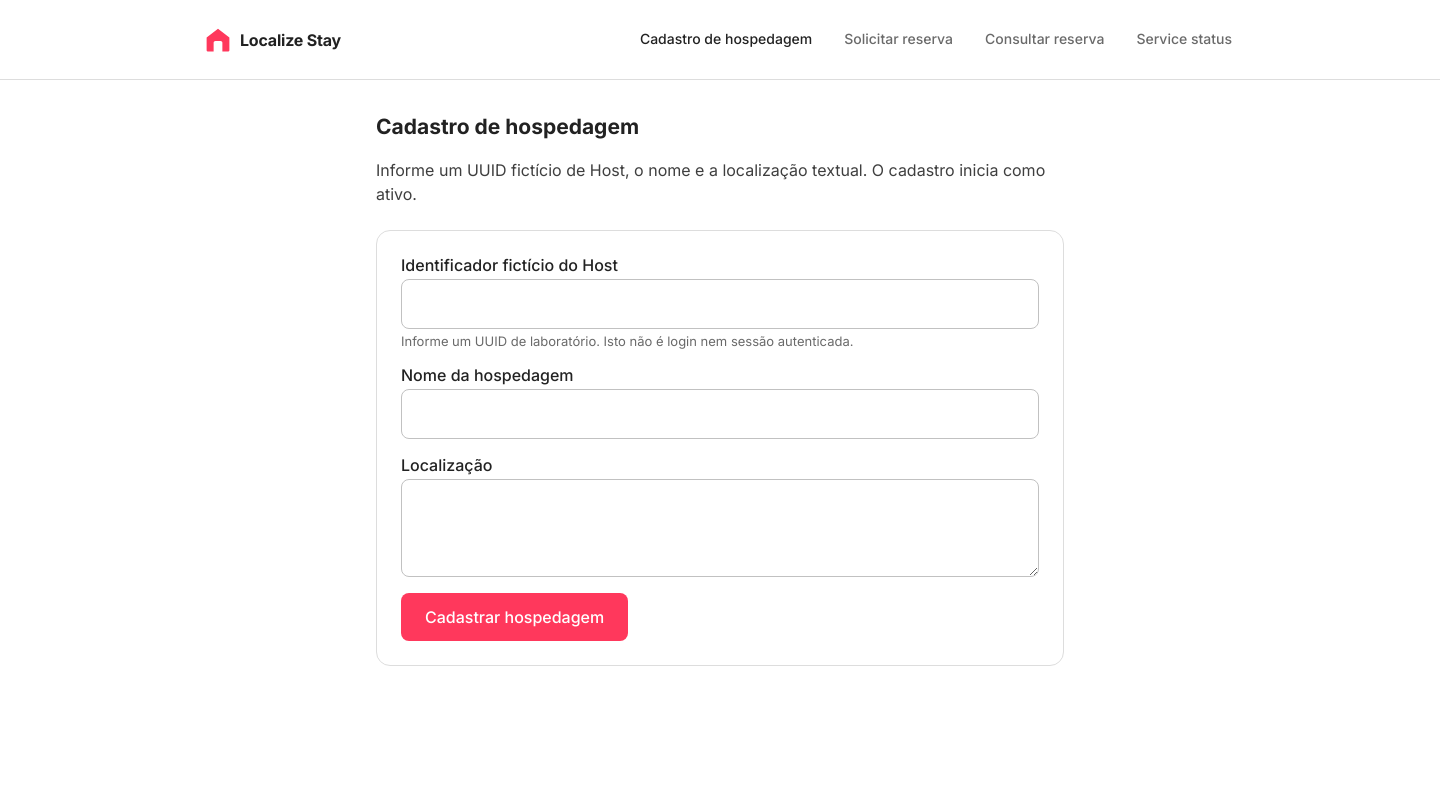
Test case: PropertyUpdate › prefills the edit form from the created response and keeps identity fields read-only
Type "421ec5d4-3ba2-4d8e-8958-a51dd0711650" into the field labelled "Identificador fictício do Host" at (720, 304), box [401,279,1039,329]
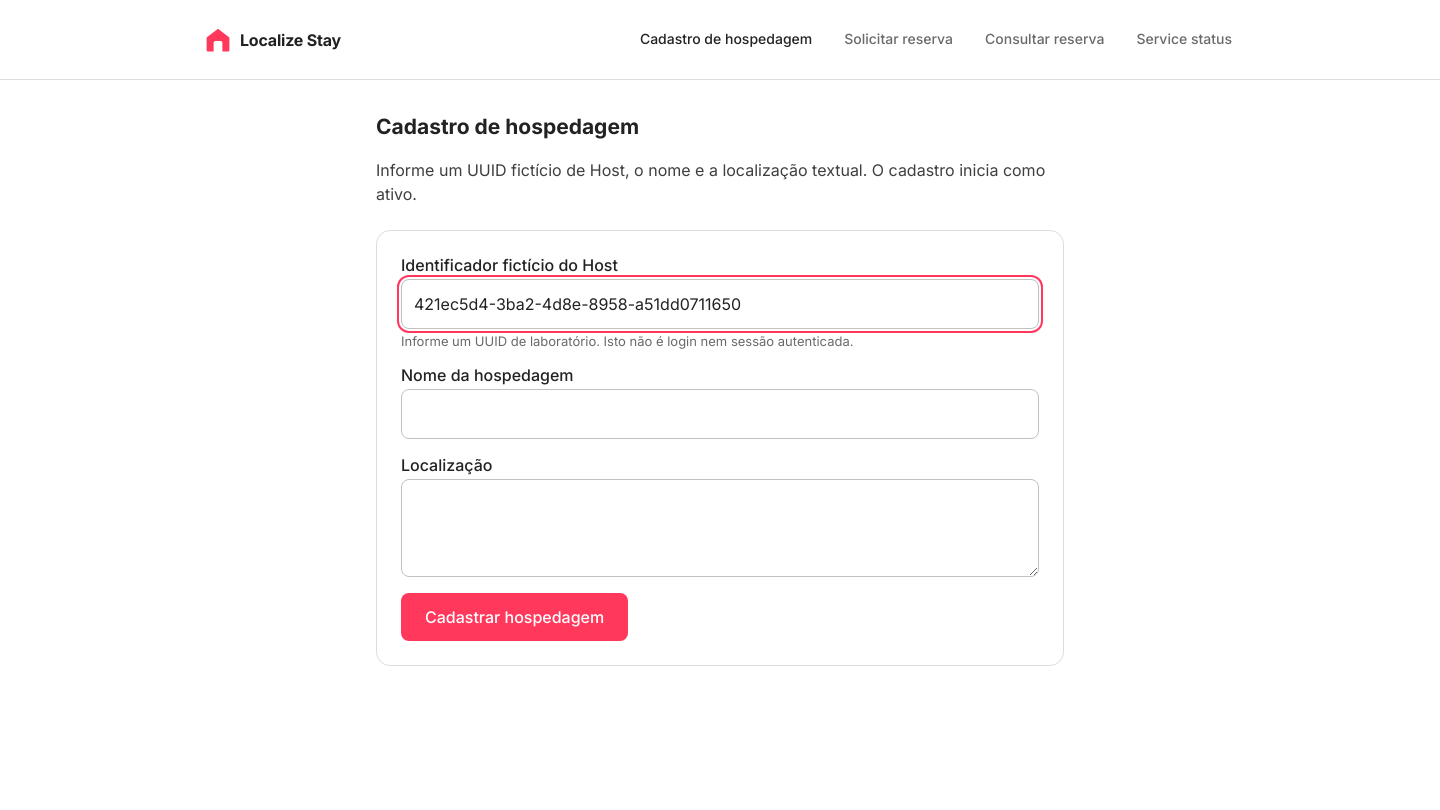
Type "Pousada Dunas do Sol" into the field labelled "Nome da hospedagem" at (720, 414), box [401,389,1039,439]
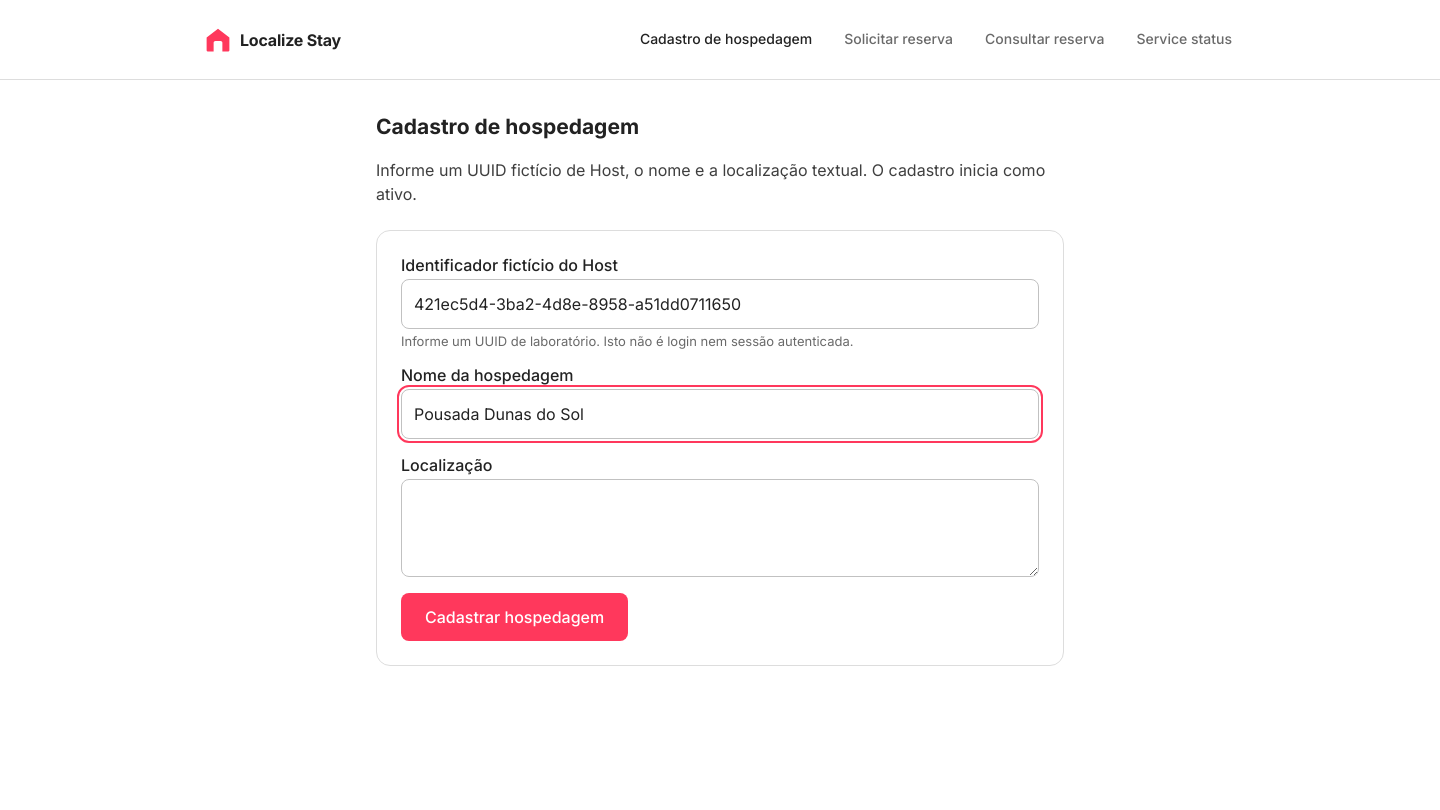
Type "Cumbuco, Caucaia - CE" into the text box labelled "Localização" at (720, 528), box [401,479,1039,577]
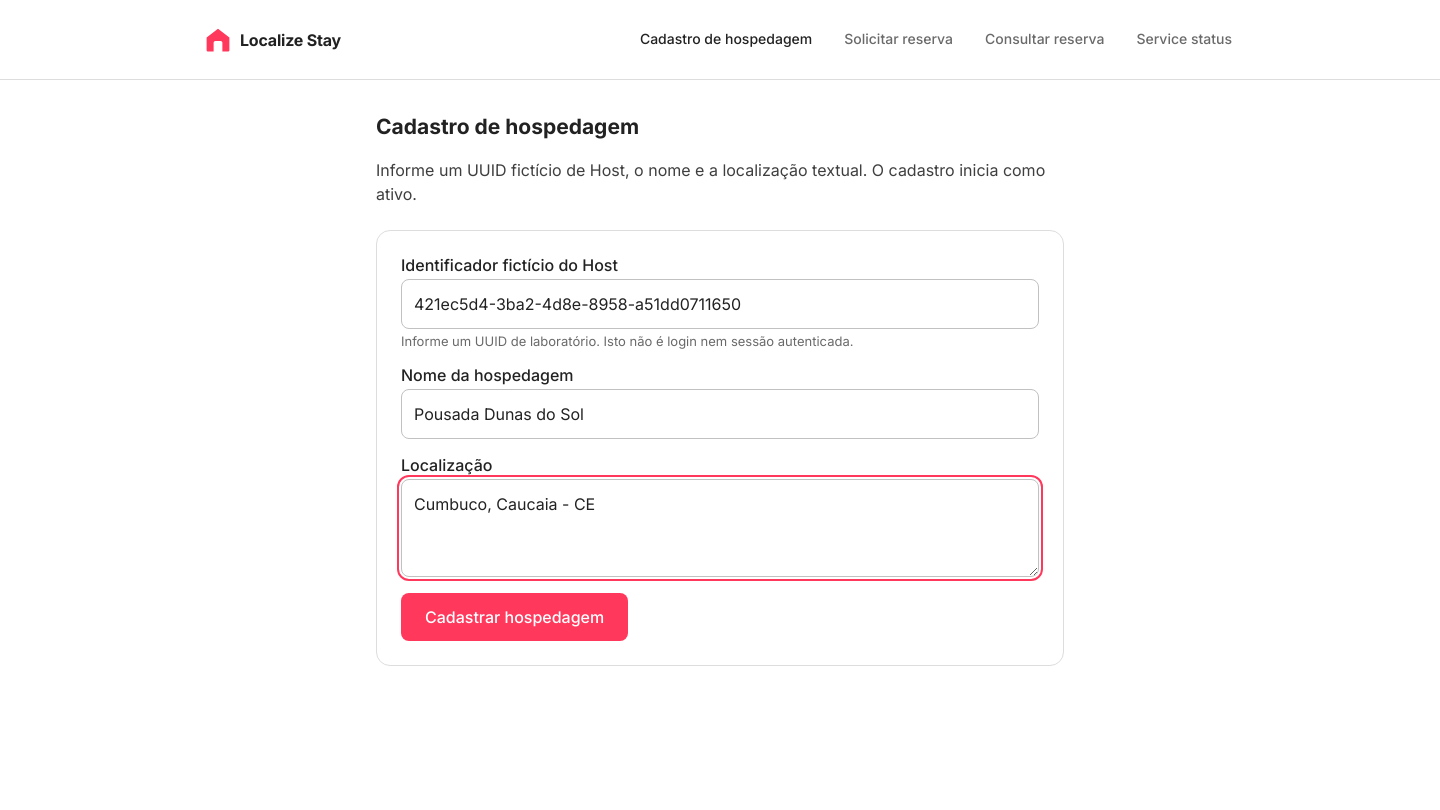
Click the button "Cadastrar hospedagem" at (515, 617), box [401,593,628,641]
(page scrolled)
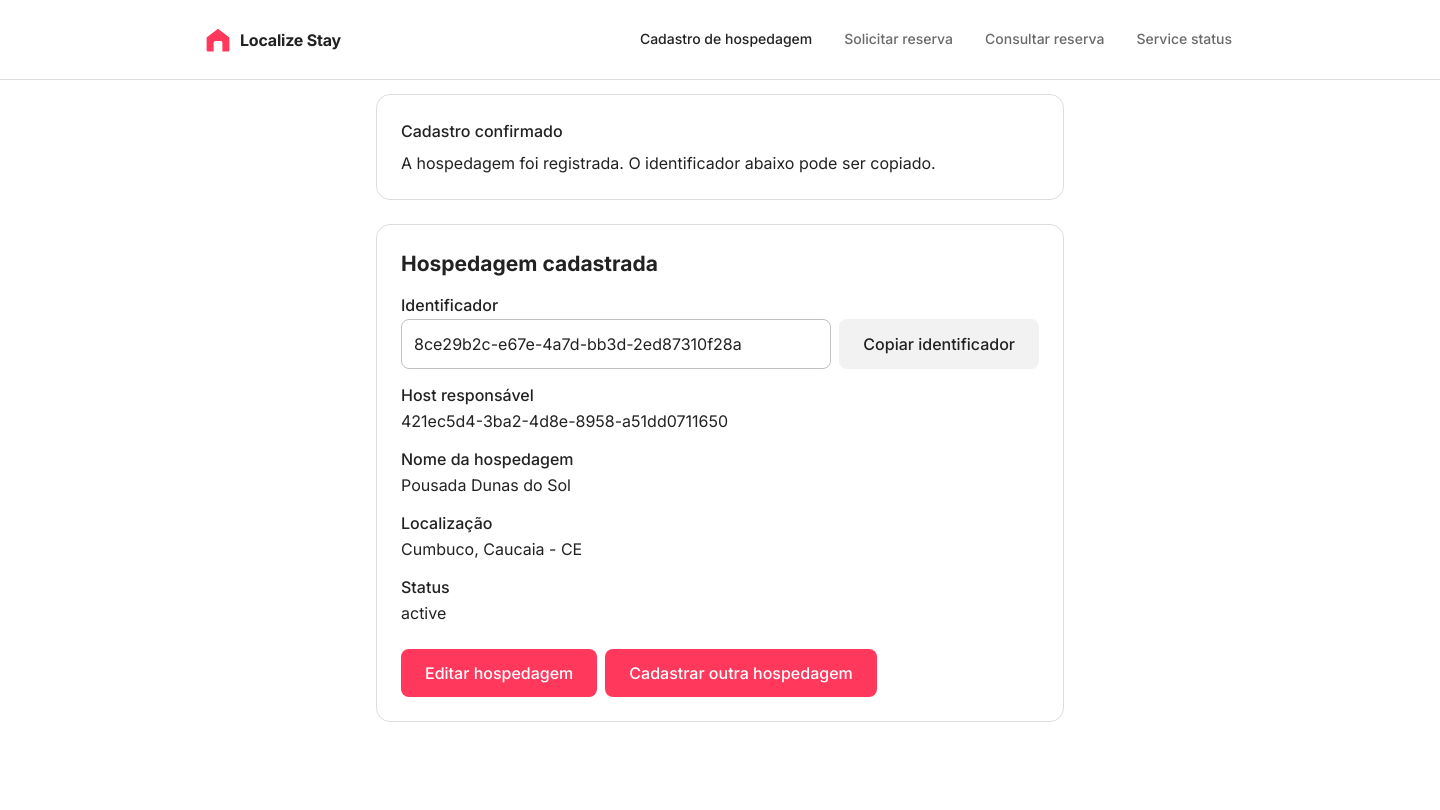
expect the heading "Hospedagem cadastrada" is shown: met, box [401,251,658,276]
Click the button "Editar hospedagem" at (499, 673), box [401,649,597,697]
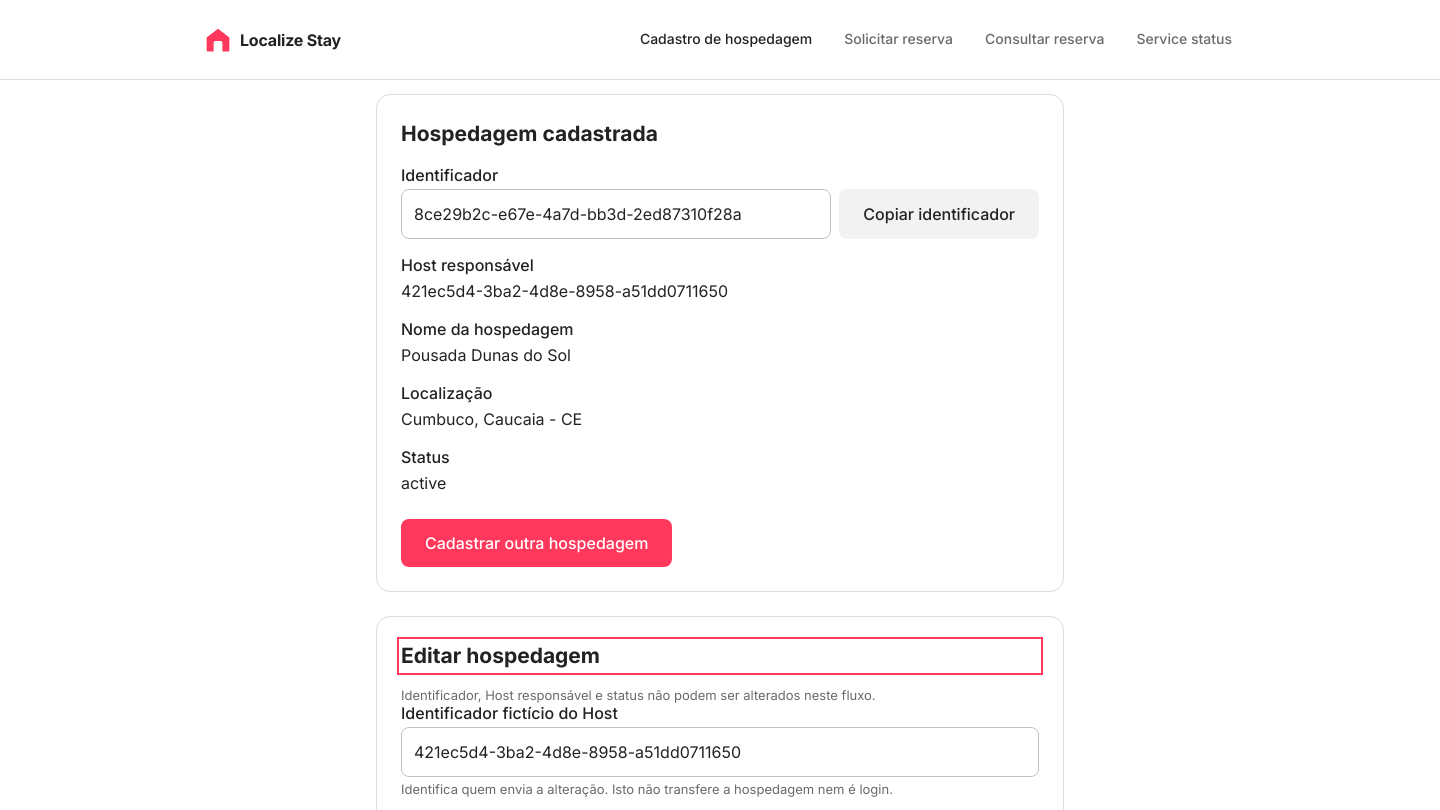
expect the heading "Editar hospedagem" is shown: met, box [401,643,600,668]
expect the field labelled "Identificador" holds "8ce29b2c-e67e-4a7d-bb3d-2ed87310f28a": met, box [401,189,831,239]
expect the field labelled "Identificador fictício do Host" holds "421ec5d4-3ba2-4d8e-8958-a51dd0711650": met, box [401,727,1039,777]
